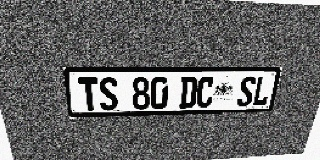0: (150, 77, 168, 109)
8: (132, 77, 150, 110)
C: (195, 77, 215, 108)
D: (179, 77, 198, 108)
L: (251, 76, 273, 106)
S: (98, 77, 118, 111), (236, 76, 257, 107)
T: (78, 77, 100, 111)
